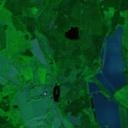alloviz: (63, 24, 81, 41), (51, 80, 61, 102)
